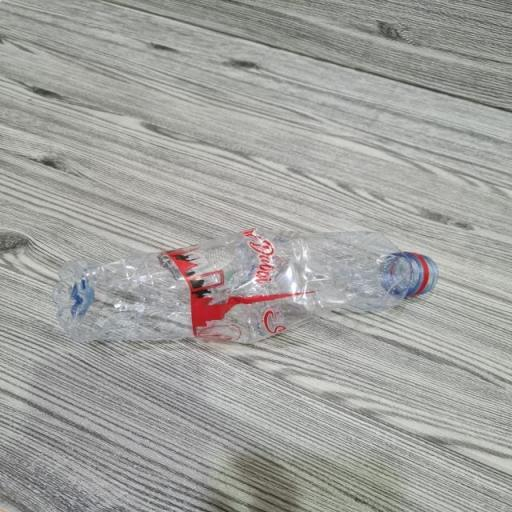plastic: (50, 229, 439, 347)
